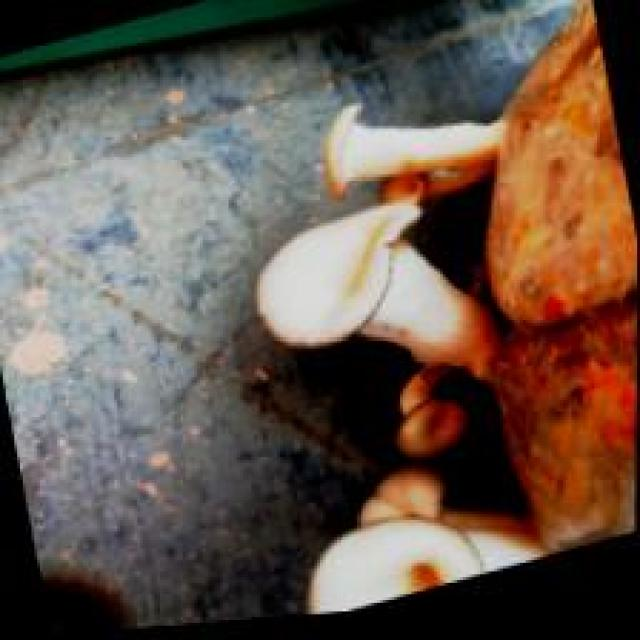chanterelle: (251, 0, 637, 571)
